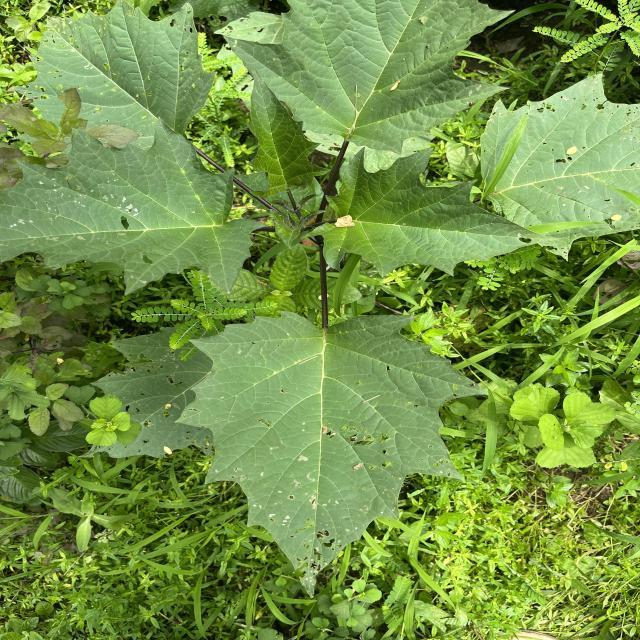Datura metal linn: (181, 307, 494, 603), (0, 114, 270, 298), (314, 142, 560, 283), (238, 66, 334, 202)
